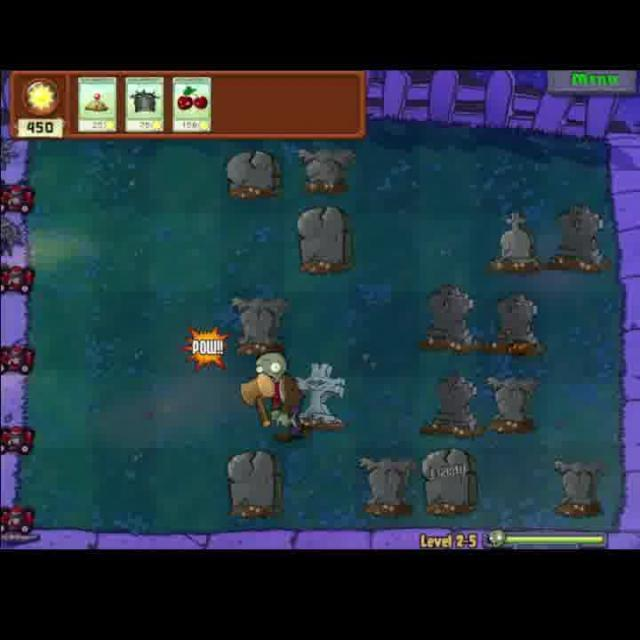zombies: (254, 349, 310, 446)
